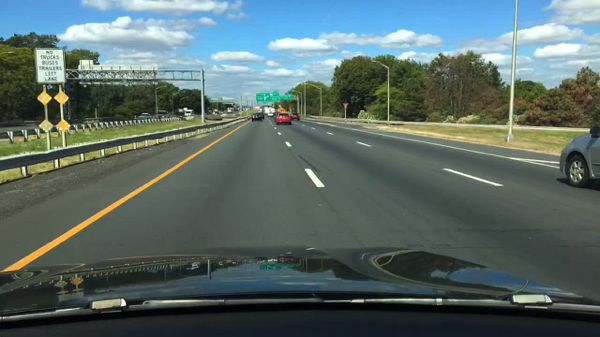car: (558, 122, 599, 189), (275, 112, 293, 125), (155, 110, 172, 118), (137, 112, 152, 120), (251, 112, 263, 122), (290, 112, 300, 121), (184, 109, 195, 117), (226, 106, 234, 114), (212, 108, 220, 116), (257, 111, 265, 119), (264, 107, 270, 116), (270, 108, 277, 115), (206, 110, 214, 116), (266, 112, 274, 118), (220, 109, 227, 115), (234, 107, 240, 113), (241, 108, 248, 112)
traffic sign: (77, 65, 159, 86), (34, 47, 66, 84), (256, 93, 281, 103), (55, 90, 70, 104), (37, 92, 52, 106), (57, 119, 72, 133), (39, 120, 53, 132), (79, 59, 94, 65), (280, 94, 293, 100), (343, 102, 349, 109), (273, 90, 281, 94), (254, 104, 260, 109)
truck: (264, 107, 275, 114), (276, 107, 286, 114)
